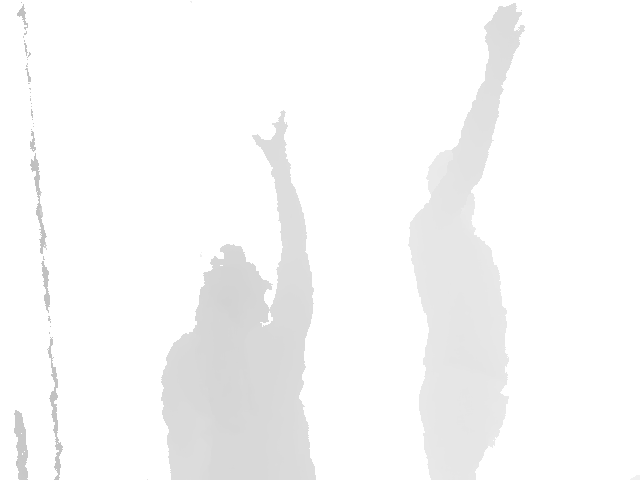hand: (482, 2, 527, 71), (252, 109, 290, 160)
head: (193, 243, 269, 334), (427, 149, 475, 213)
person: (160, 109, 320, 480), (407, 1, 528, 479)
